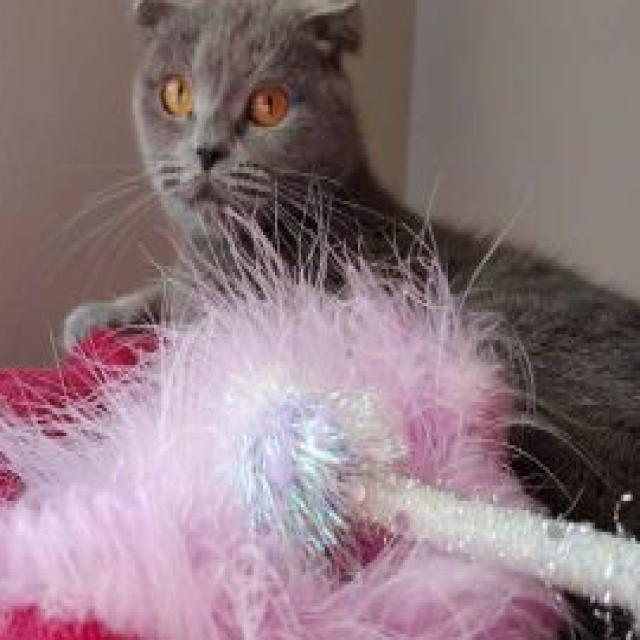Scottish Fold: (59, 0, 640, 371)
